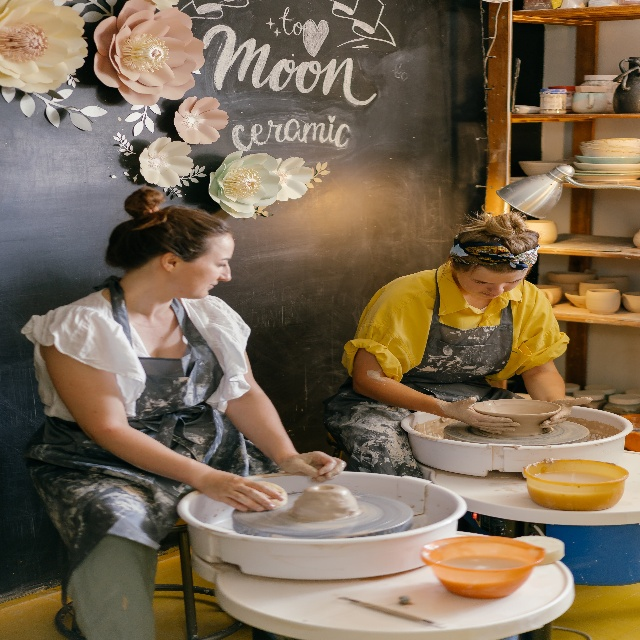Sin_guantes: (201, 463, 284, 518), (448, 394, 519, 440), (284, 448, 346, 482), (540, 395, 591, 433)
